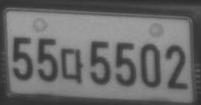0: (140, 42, 161, 87)
2: (164, 43, 188, 90)
5: (115, 41, 137, 86), (89, 40, 111, 84), (12, 36, 33, 81), (37, 38, 58, 82)
다: (60, 47, 83, 83)
